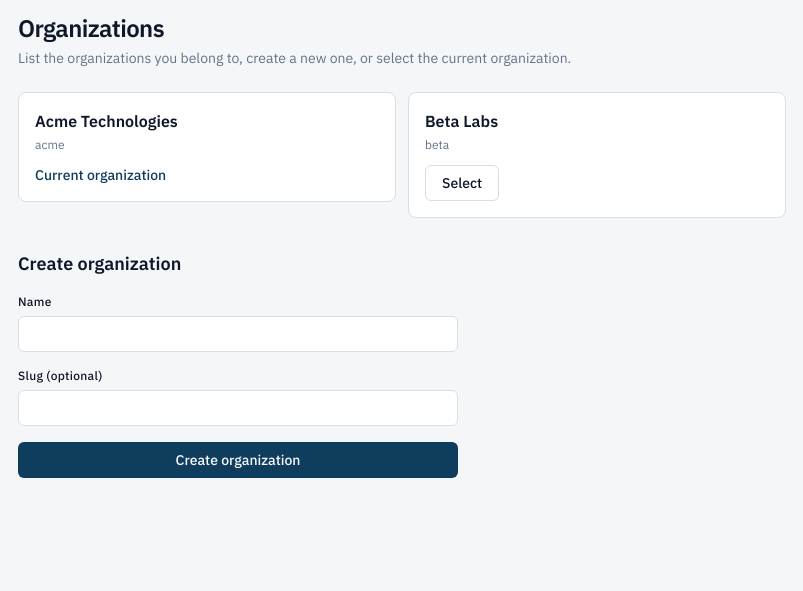
Test: Organizations page › shows field and envelope errors when create fails
The image size is (803, 591).
Expected: the element with test id "org-card-org_a" is shown, [18, 92, 396, 202]
Type "Acme" into the field labelled "Name".
click(238, 334); type("Acme")  # box [18, 316, 458, 352]
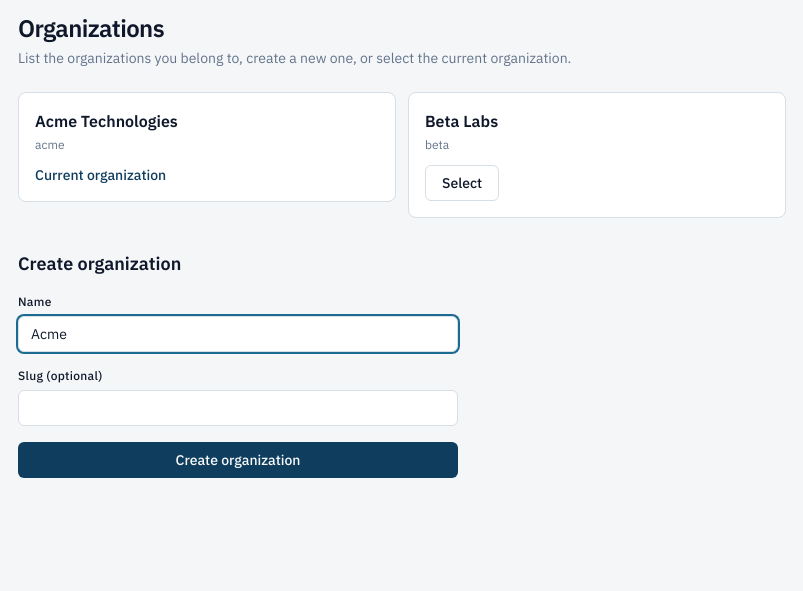
Type "acme" into the field labelled "Slug (optional)".
click(238, 408); type("acme")  # box [18, 390, 458, 426]
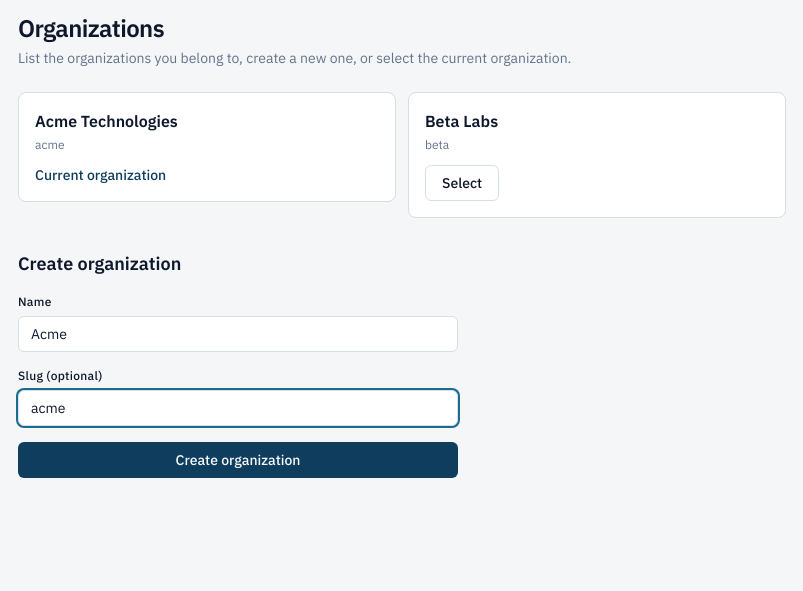
Click the button "Create organization".
click(238, 460)  # box [18, 442, 458, 478]
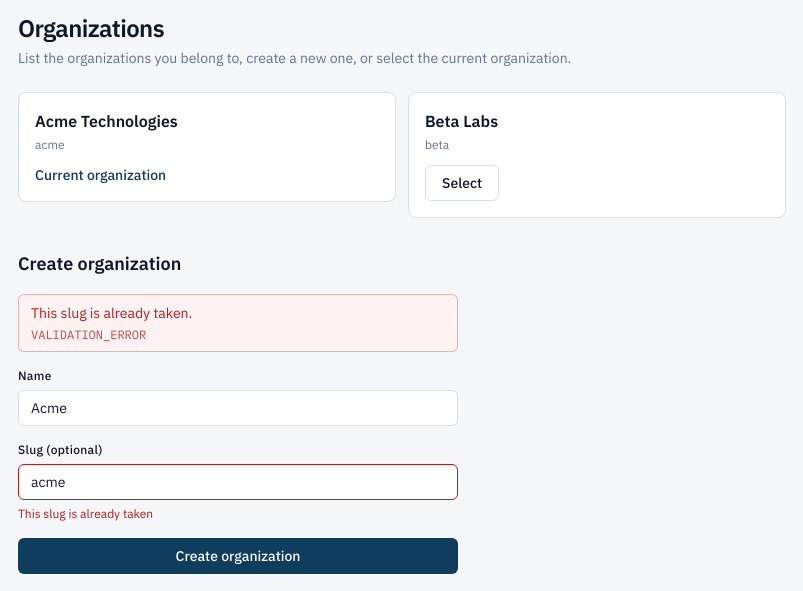
Expected: the message with test id "auth-form-error" shows "This slug is already taken.", [31, 304, 192, 322]
Expected: the text "This slug is already taken" is shown, [18, 506, 153, 521]
